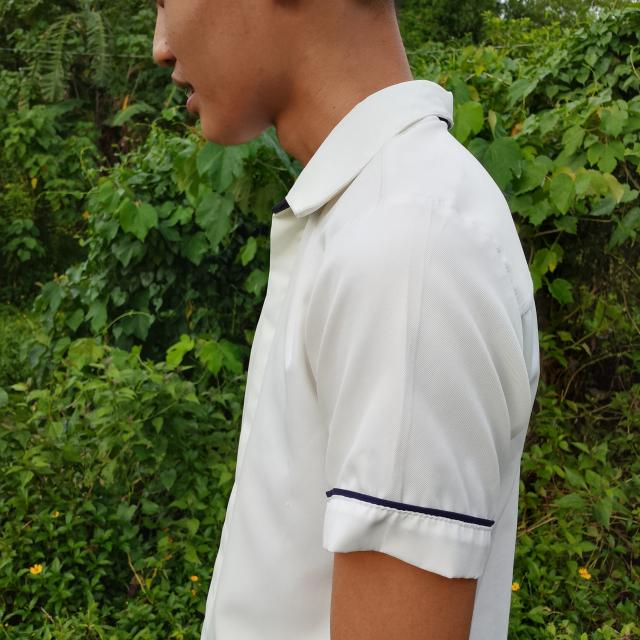education_male_uniform: (168, 146, 594, 640), (261, 310, 578, 601), (216, 60, 518, 263)
